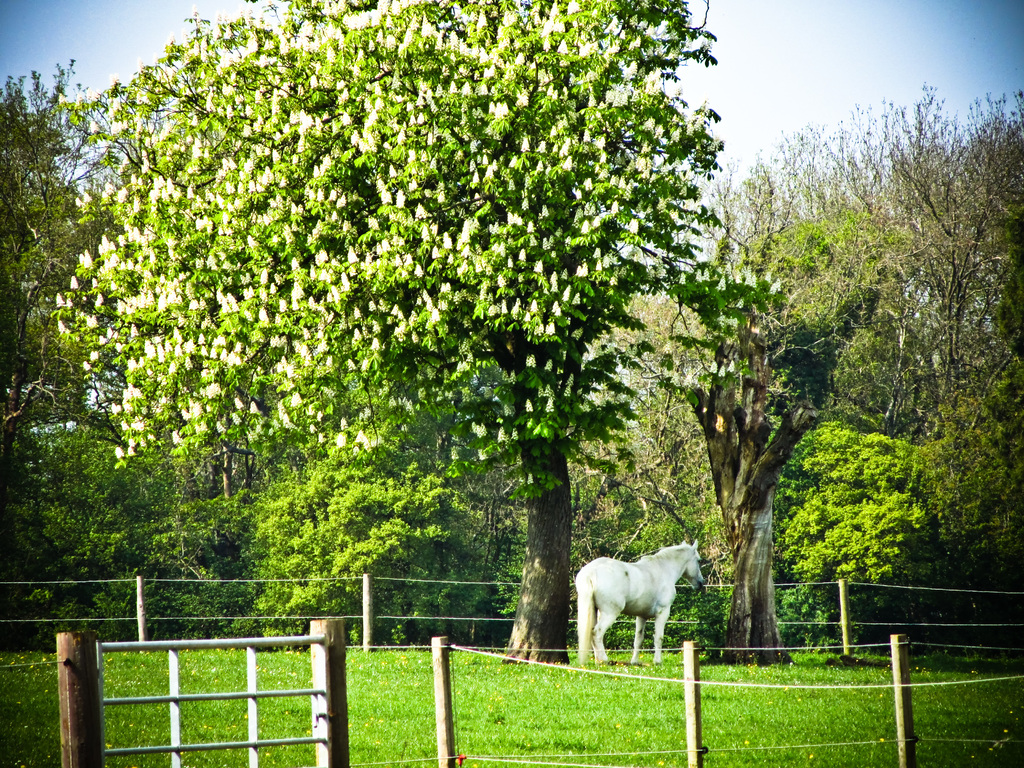horse: (570, 536, 708, 664)
